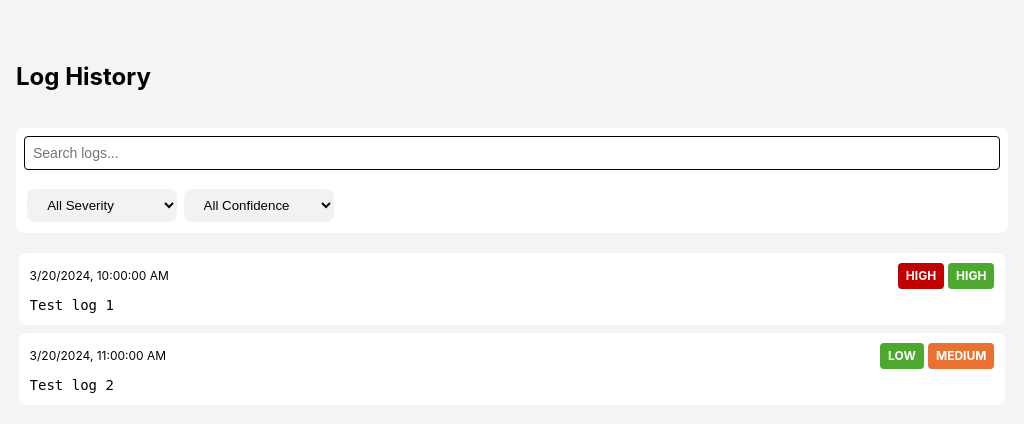
LogHistory › filters logs based on search query
This screenshot has width=1024, height=441.
Step 1. Type "Test log 1" into the field with placeholder "Search logs..." → [512, 153], box left=24, top=136, right=1000, bottom=170
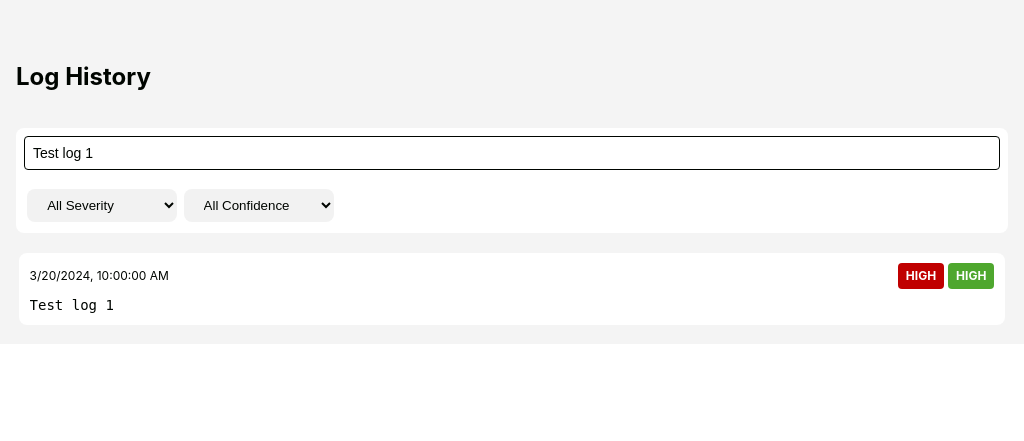
Expected: the text "Test log 1" is shown, left=30, top=297, right=114, bottom=313
Now the text "Test log 2" is gone
